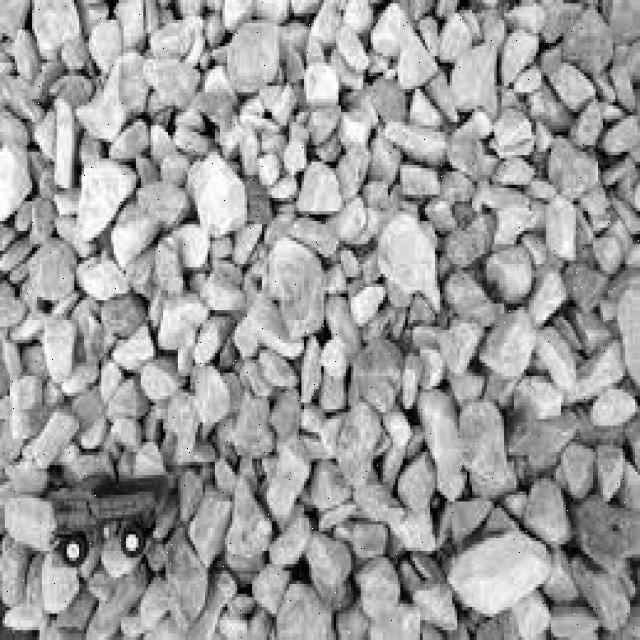Metamorphic: (2, 4, 628, 634)
